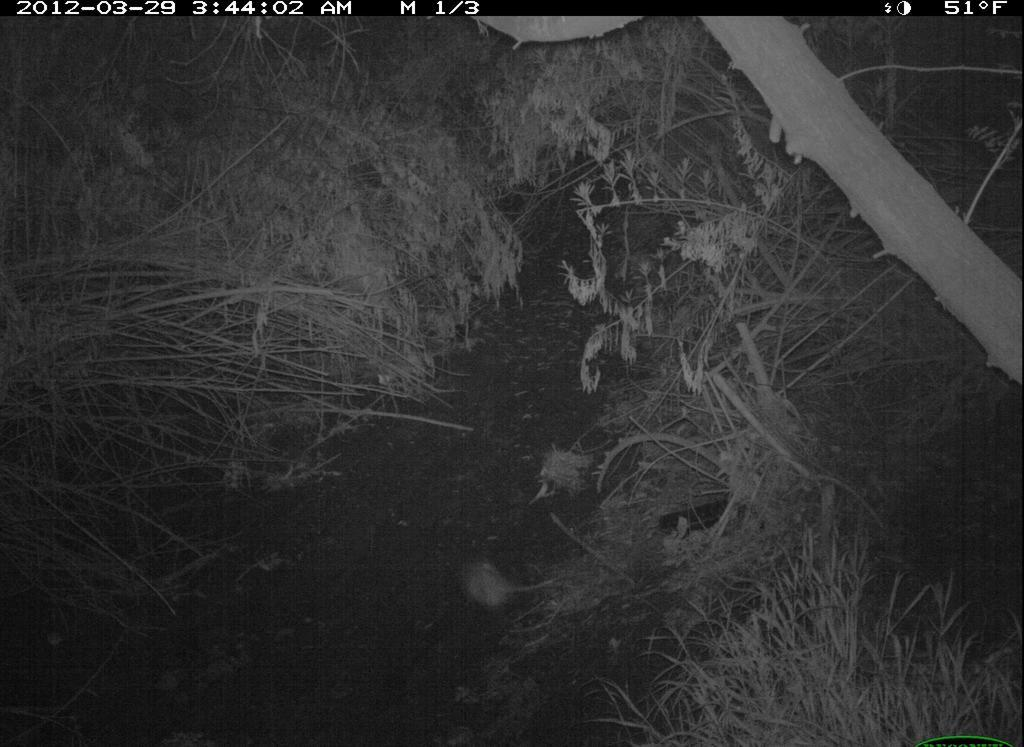opossum: (451, 530, 561, 628)
